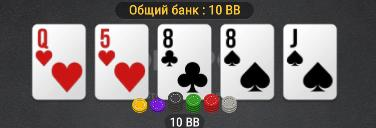5h: (97, 26, 147, 99)
8c: (159, 25, 211, 95)
8s: (221, 26, 273, 96)
Js: (285, 26, 336, 98)
Qh: (34, 26, 85, 98)
